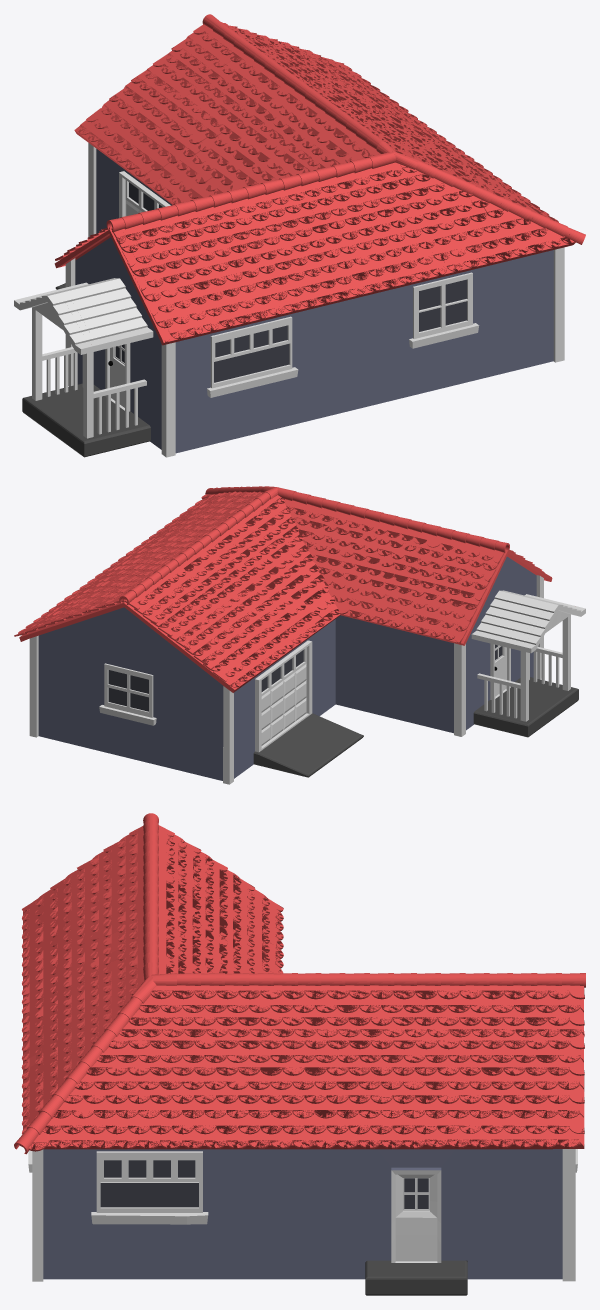
Rendered from yellow_house.fbx.
3 views of the same model, one above another, from view 1: azimuth 30°, elevation 25°; view 2: azimuth 150°, elevation 25°; view 3: azimuth 270°, elevation 25° (orthographic). The views are drawn at different scales.
Visible parts, largest first — view 1: blue_house.001; view 2: blue_house.001; view 3: blue_house.001.
Part boxes in pixels (bbox=[...]): blue_house.001: bbox=[14, 14, 585, 457]; blue_house.001: bbox=[14, 486, 585, 784]; blue_house.001: bbox=[14, 813, 585, 1295].
Bounding box in the file's own units: 1628 × 642 × 1393.
